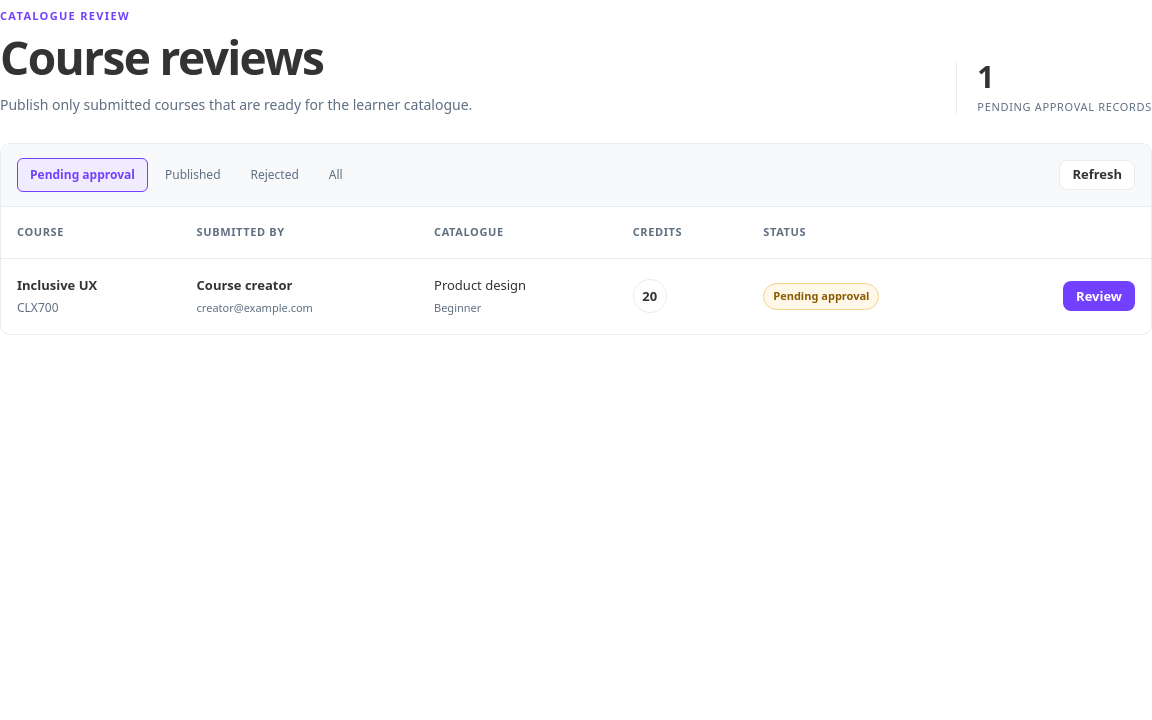
Test: AdminCourseReviewsPage material and interest summary › places the course by learning path instead of the retired category
Check: the text "Product design" is shown, box [434,276,526,294]
Click the button "Review". click: coordinates (1099, 296)
box: [1063,281,1135,311]
(page scrolled)
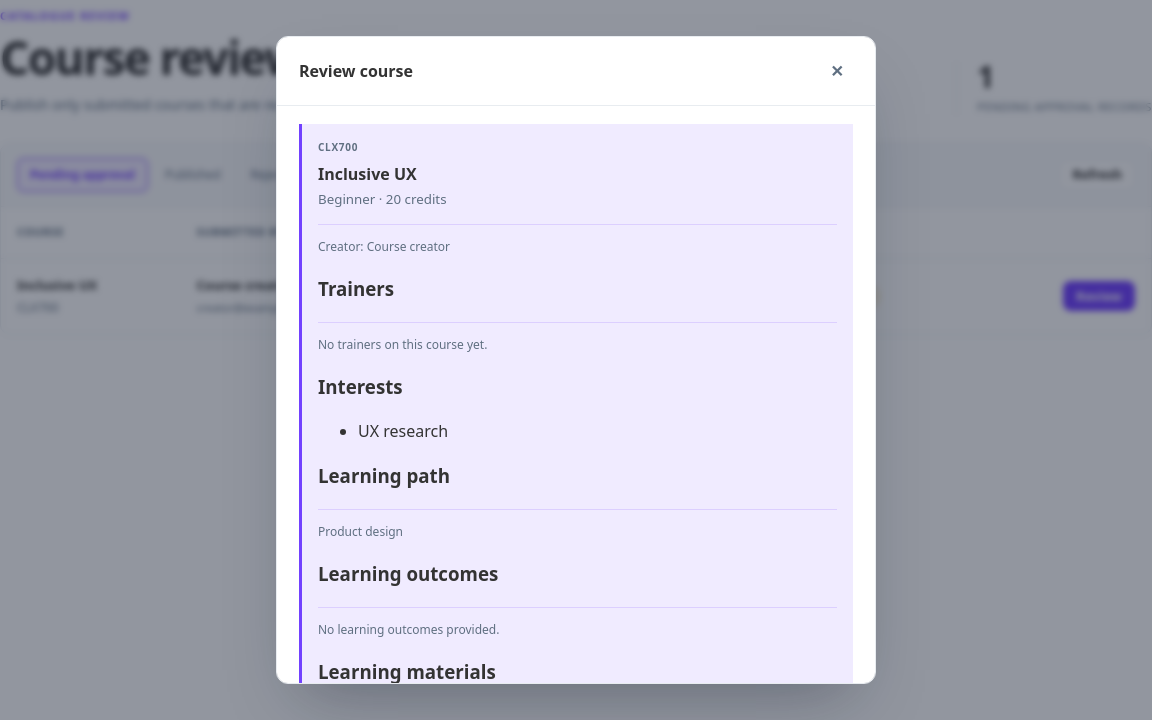
Check: the text "Product design" is shown 2 times, box [418,259,617,334]; [318,509,837,541]
Check: the text "Beginner · 20 credits" is shown, box [318,190,446,208]
